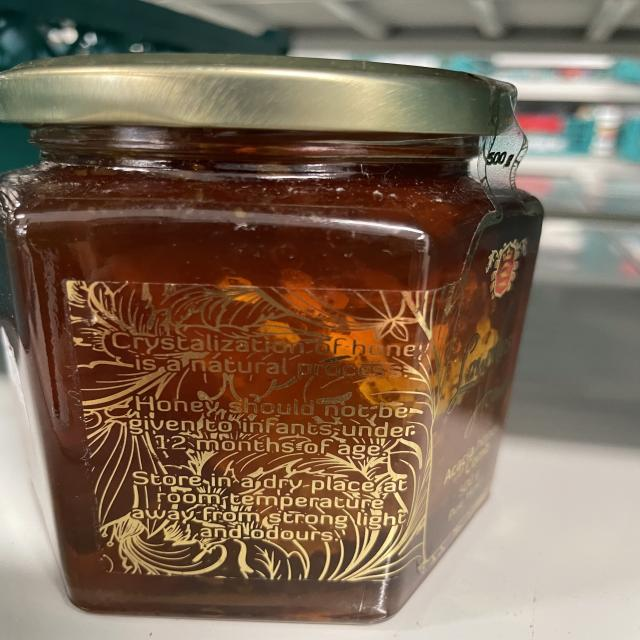object_name: (4, 57, 524, 623)
